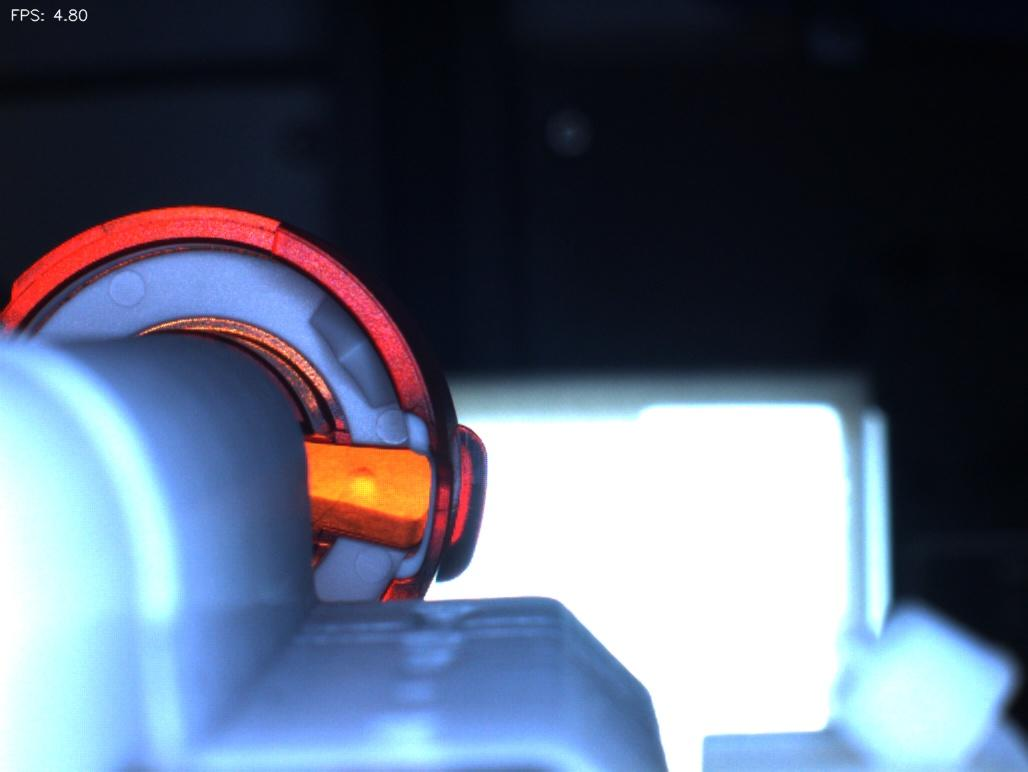Retassure: (315, 447, 414, 522)
